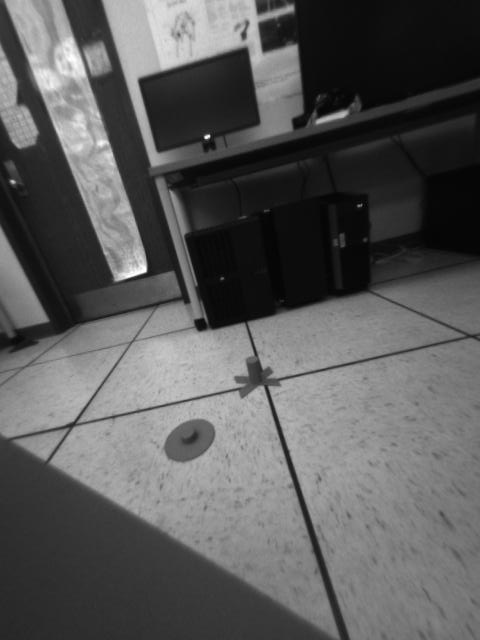X: (235, 357, 281, 398)
